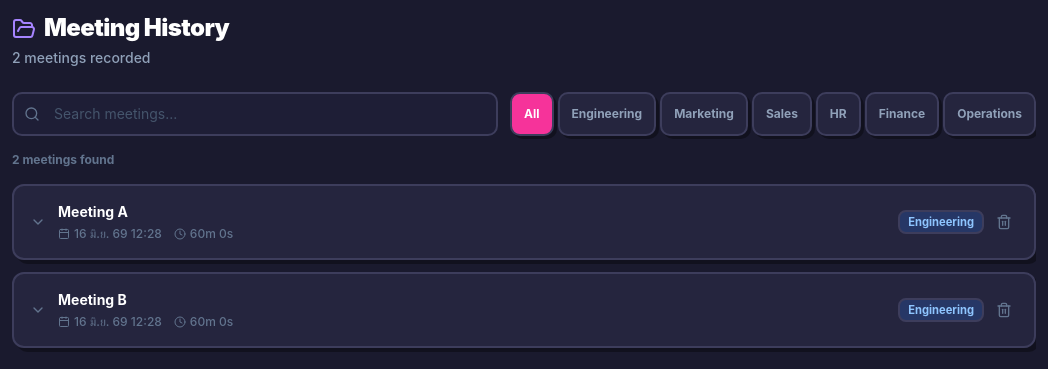
Test: MeetingHistory Component › Search › should search in transcript content
Type "React" into the field with placeholder "Search meetings..." at (255, 114), box [12,92,498,136]
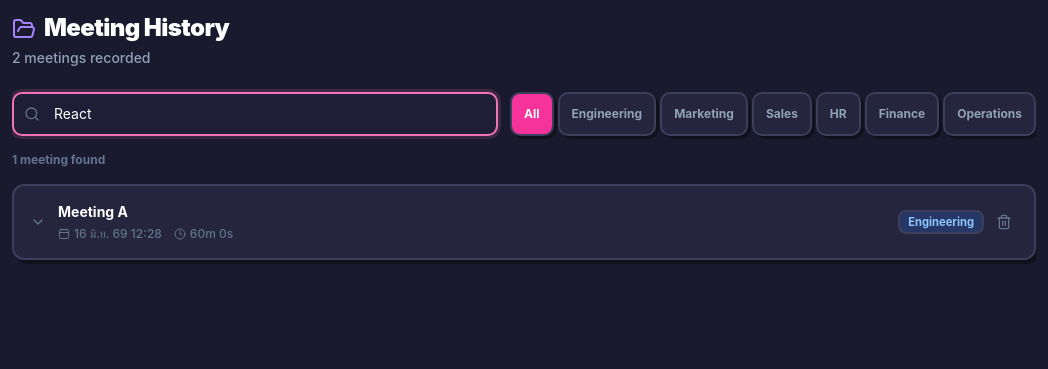
Check: the text "Meeting A" is shown, box [58,203,128,220]
Check: the button "Meeting B" is gone
